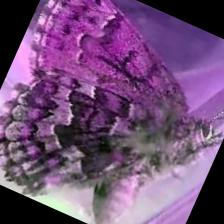butterfly: (0, 0, 219, 224)
